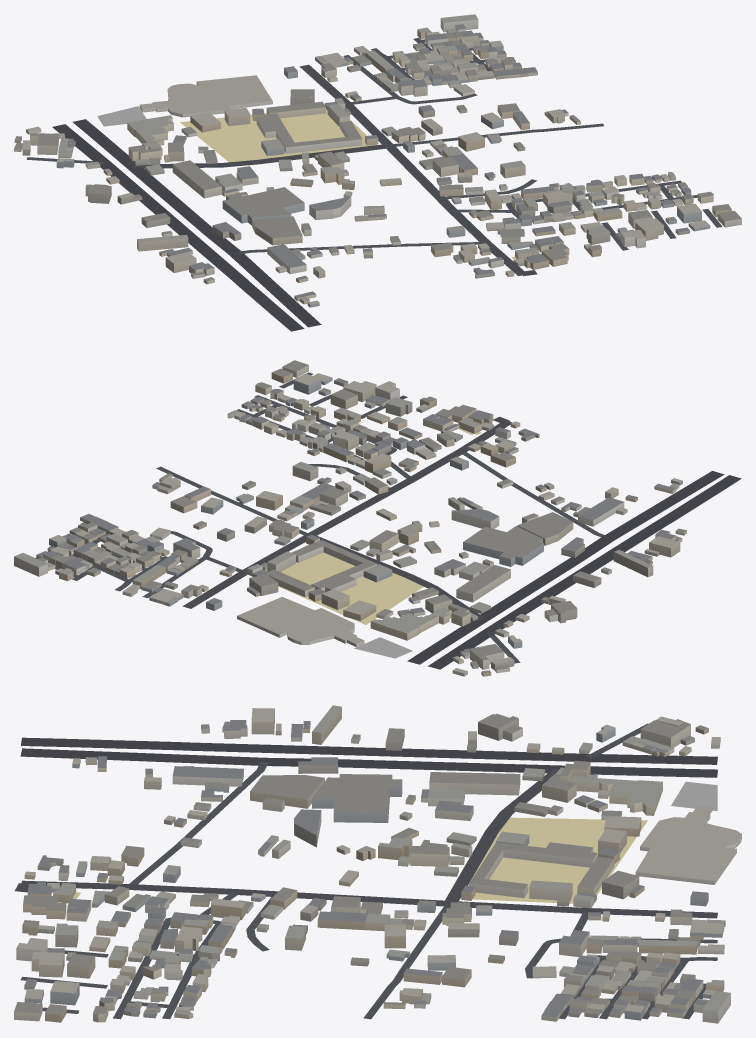
3 renders of one model, top to bottom at view 1: azimuth 30°, elevation 25°; view 2: azimuth 150°, elevation 25°; view 3: azimuth 270°, elevation 25°, orthographic. The views are drawn at different scales.
Parts seen in each view (by area): view 1: buildings_roofs, buildings_walls, roads, landuse; view 2: buildings_roofs, buildings_walls, roads, landuse; view 3: buildings_roofs, buildings_walls, roads, landuse.
Part boxes in pixels (box(x1,y1,x2,y2)): buildings_roofs: box(14, 14, 741, 304); buildings_walls: box(14, 18, 741, 307); roads: box(26, 37, 722, 331); landuse: box(97, 106, 516, 259); buildings_roofs: box(14, 360, 686, 673); buildings_walls: box(14, 365, 686, 676); roads: box(35, 372, 741, 669); landuse: box(265, 428, 481, 658); buildings_roofs: box(14, 705, 741, 1017); buildings_walls: box(14, 707, 741, 1023); roads: box(15, 723, 717, 1019); landuse: box(72, 781, 717, 903).
Size of the model in its own units: 520 by 9.58 by 523.
